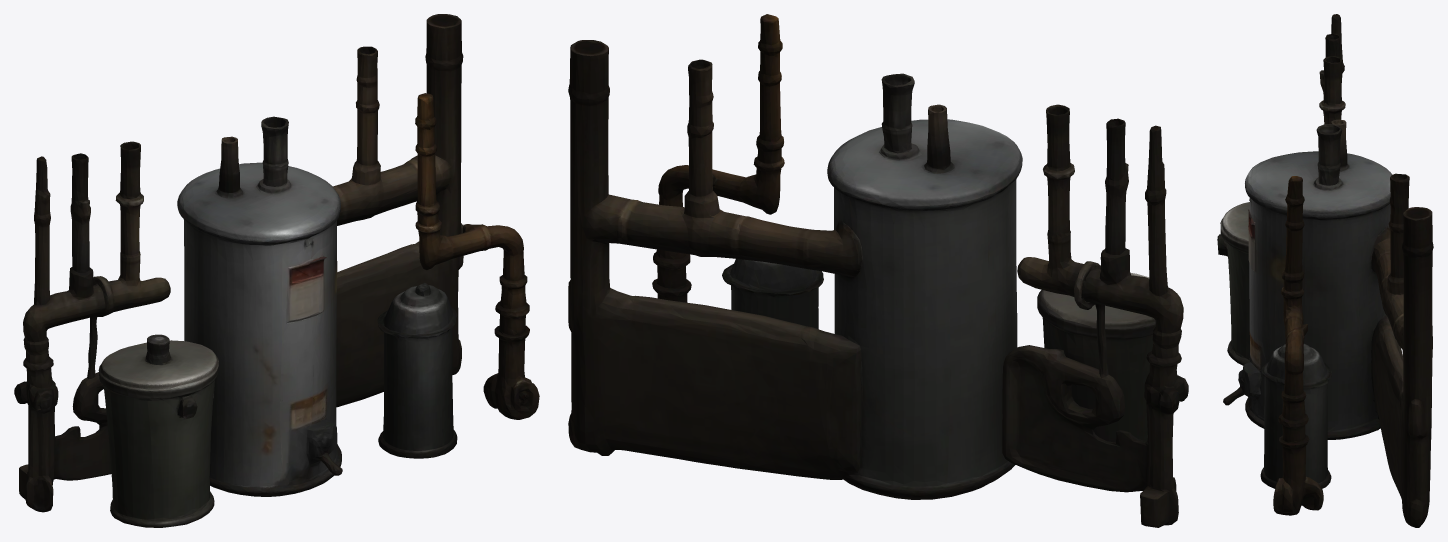
The model's file is utility_room_items.glb.
3 views of the same model, side by side, from view 1: azimuth 30°, elevation 25°; view 2: azimuth 150°, elevation 25°; view 3: azimuth 270°, elevation 25° (orthographic). The views are drawn at different scales.
Visible parts, largest first — view 1: geometry_0; view 2: geometry_0; view 3: geometry_0.
Part boxes in pixels (x1,y1,x2,y2): geometry_0: (14,14,539,527); geometry_0: (568,14,1188,527); geometry_0: (1217,14,1433,527).
Bounding box in the file's own units: 0.9909 × 0.6966 × 0.4325.
Materials: 1 (1 with a texture image).
